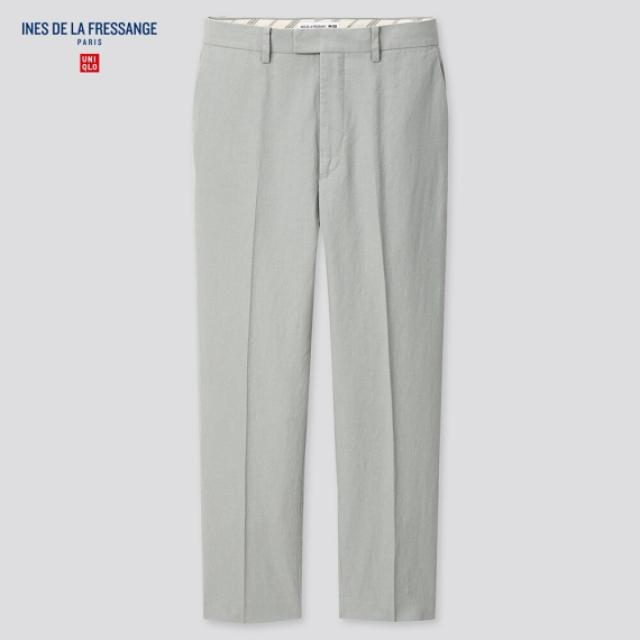long-pants: (192, 17, 451, 630)
